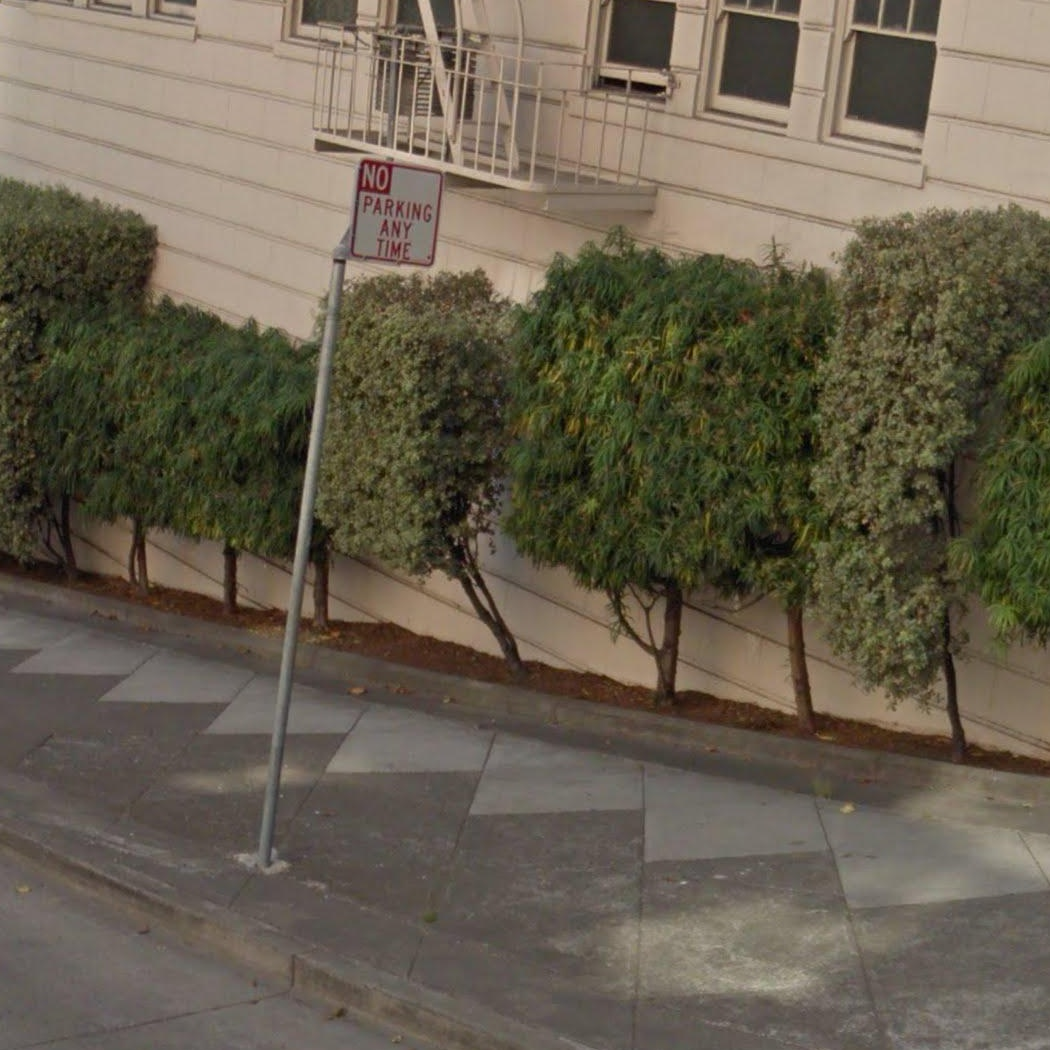No Parking Anytime: (349, 157, 444, 268)
